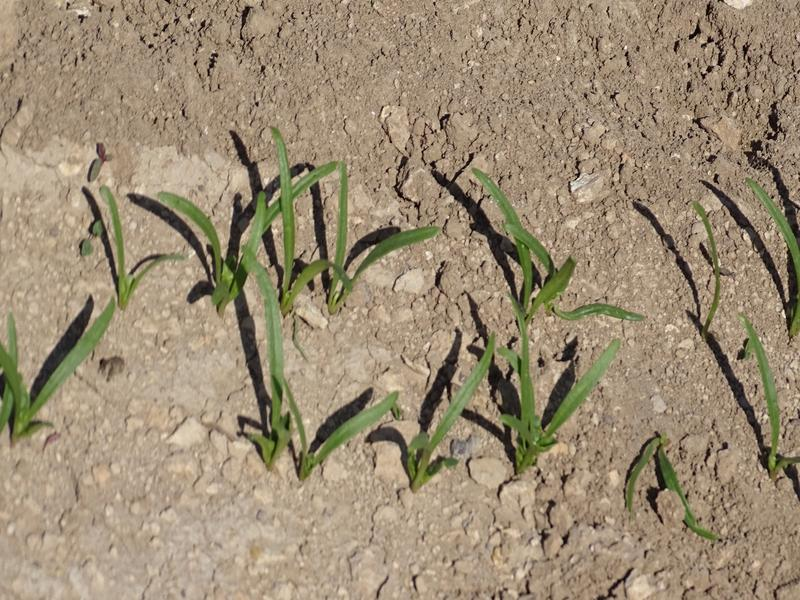Espinaca: (90, 147, 431, 305), (242, 308, 395, 492), (411, 333, 619, 467), (478, 176, 636, 330), (1, 301, 107, 426), (625, 440, 719, 540), (742, 320, 794, 473), (749, 173, 800, 287), (696, 198, 728, 325)
